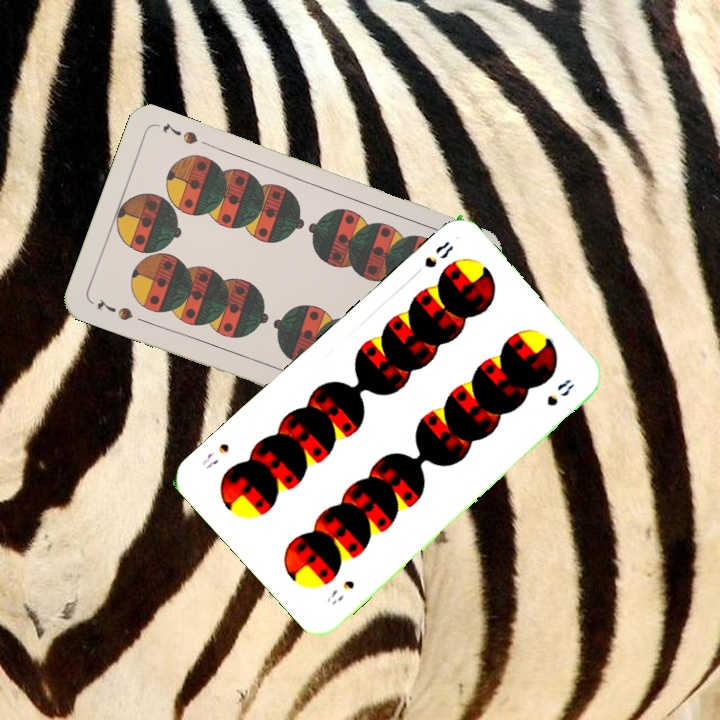S7: (93, 295, 136, 323)
S8: (420, 237, 457, 271), (322, 576, 357, 608)
